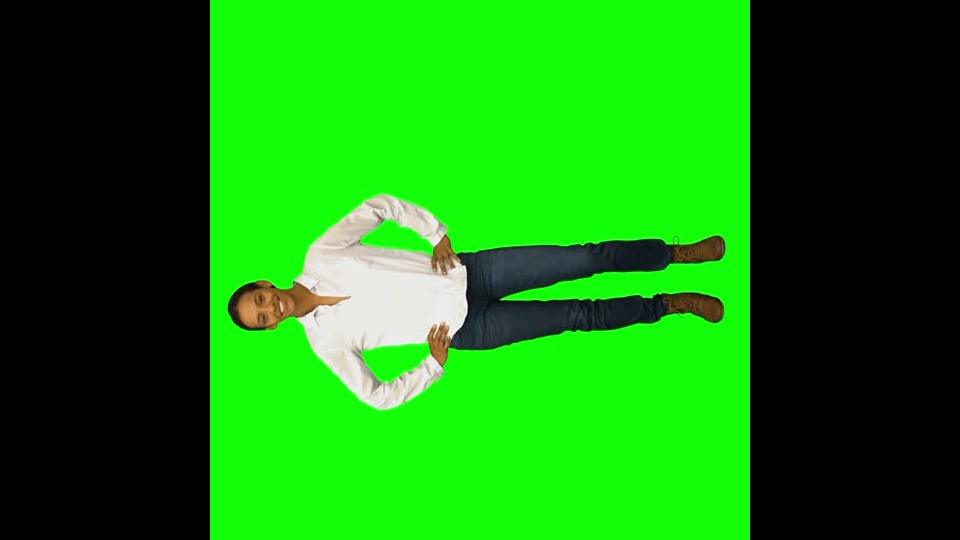arm: (313, 343, 446, 412), (323, 192, 445, 235)
chest: (346, 249, 428, 343)
face: (229, 280, 292, 336)
foot: (667, 294, 728, 324), (670, 236, 727, 264)
hand: (430, 238, 463, 280), (428, 321, 459, 361)
leg: (469, 239, 668, 298), (465, 299, 668, 355)
neck: (294, 287, 322, 323)
